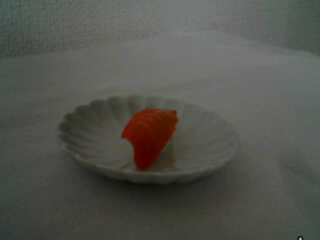002_classes: (114, 104, 179, 174)
